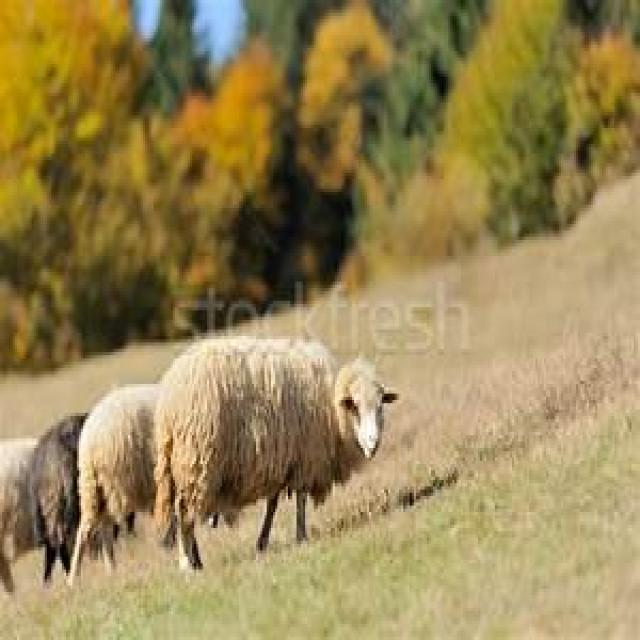sheep: (155, 336, 397, 574)
